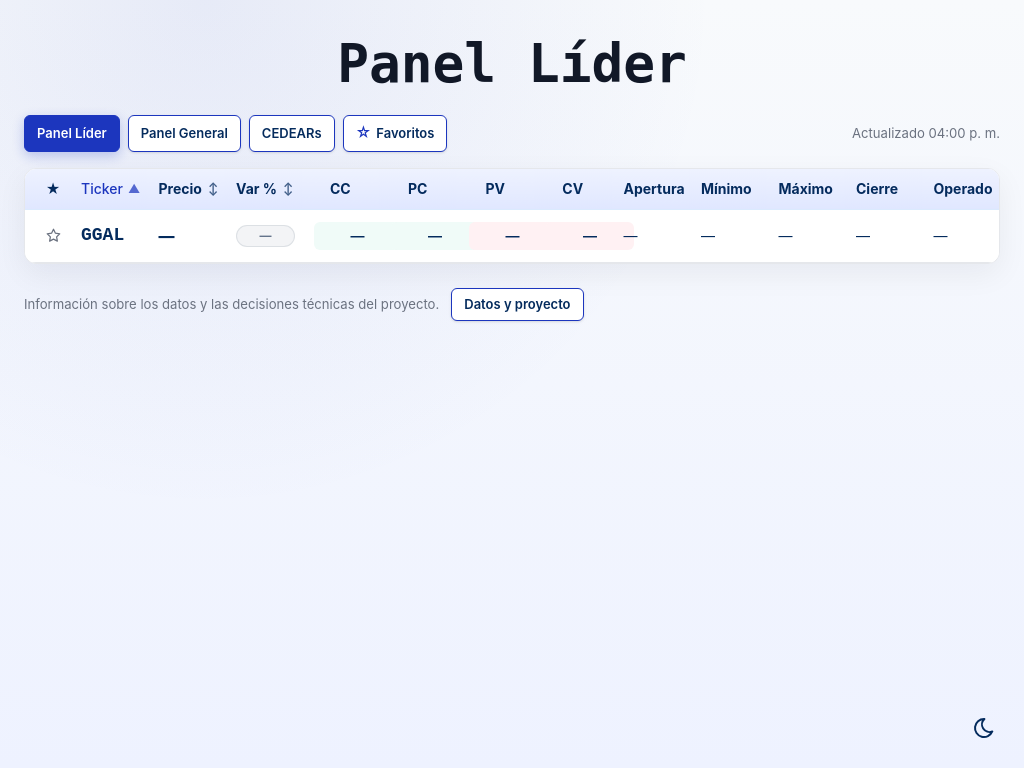
it: Panel favorites › toggles a favorite without opening the stock details modal
Click the button named "Agregar GGAL a favoritos" at [53, 236], box [37, 220, 69, 252]
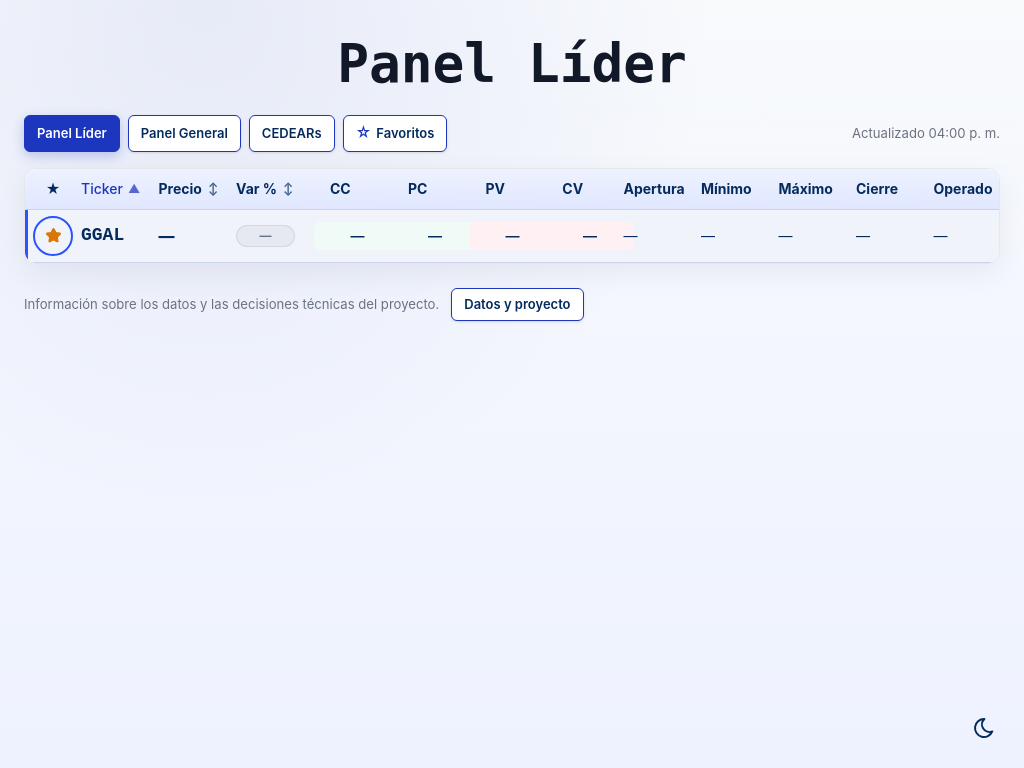
Expected: the button named "Quitar GGAL de favoritos" is shown, [37, 220, 69, 252]
